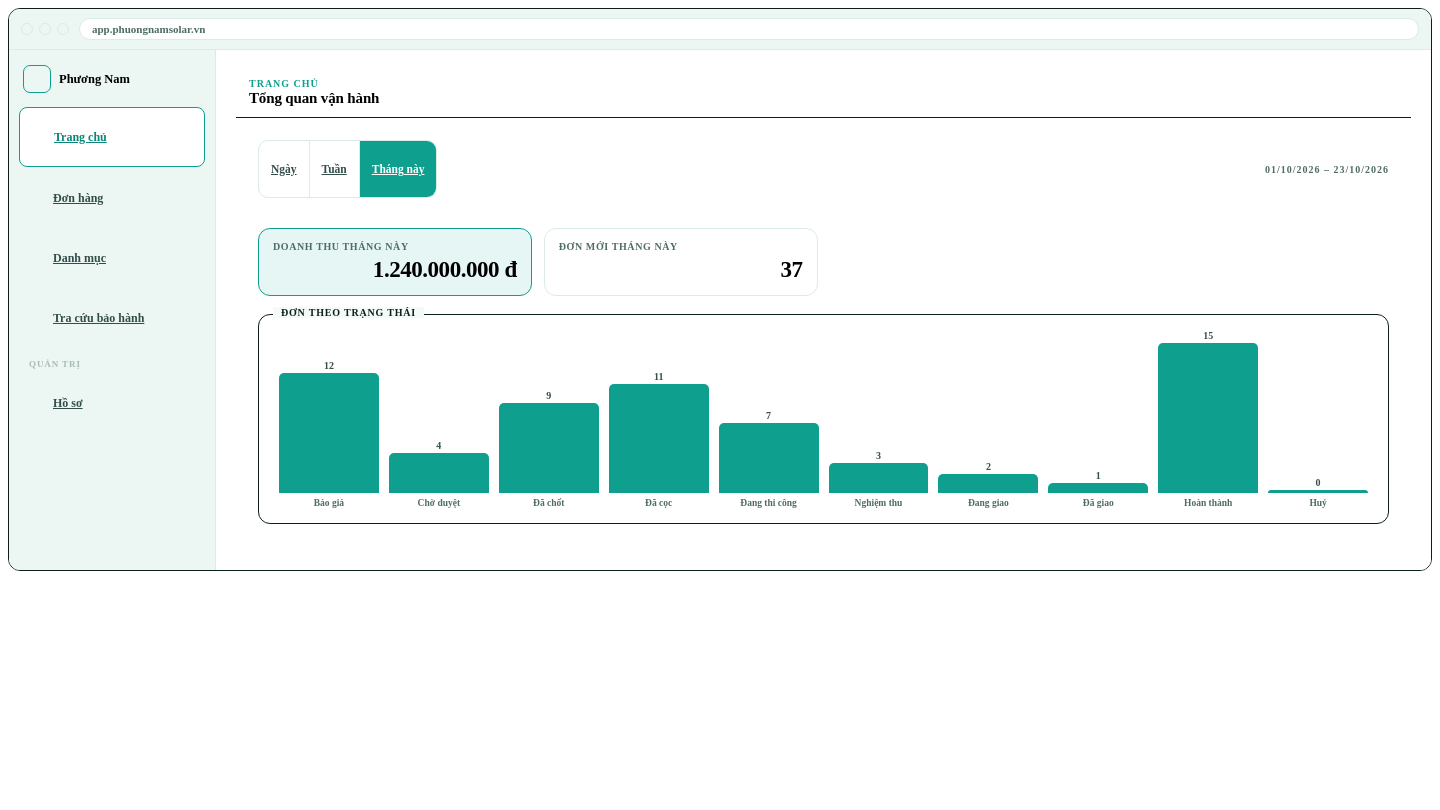
DashboardScreen › switching period asks the port again with the new period and relabels the KPIs
The image size is (1440, 810).
Check: the text "Doanh thu tháng này" is shown, box [273,241,409,252]
Click the link "Tuần". click: (335, 169)
box: [310,141,360,197]
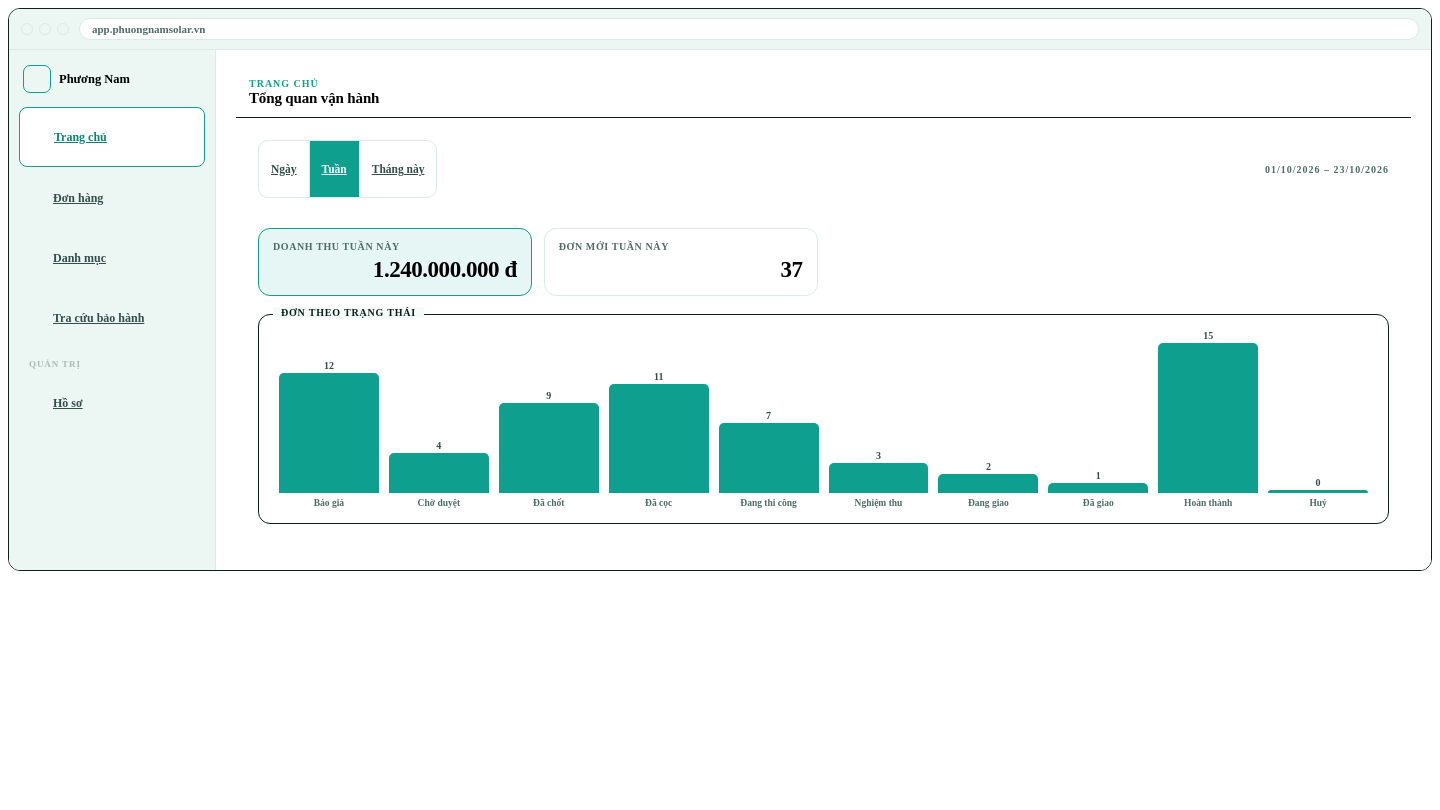
Check: the text "Doanh thu tuần này" is shown, box [273,241,400,252]
Click the link "Ngày". click: (284, 169)
box: [259,141,310,197]
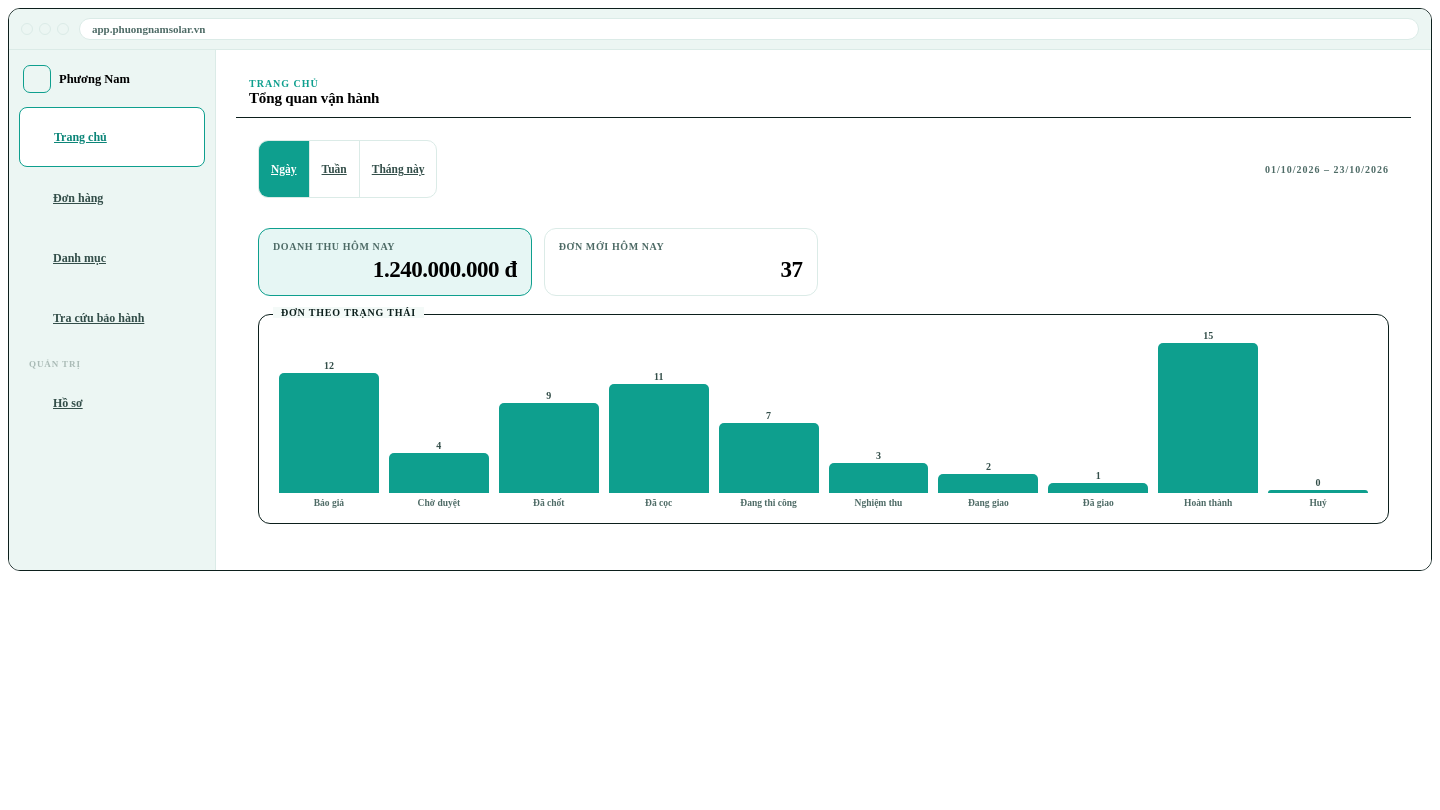
Check: the text "Doanh thu hôm nay" is shown, box [273,241,395,252]
